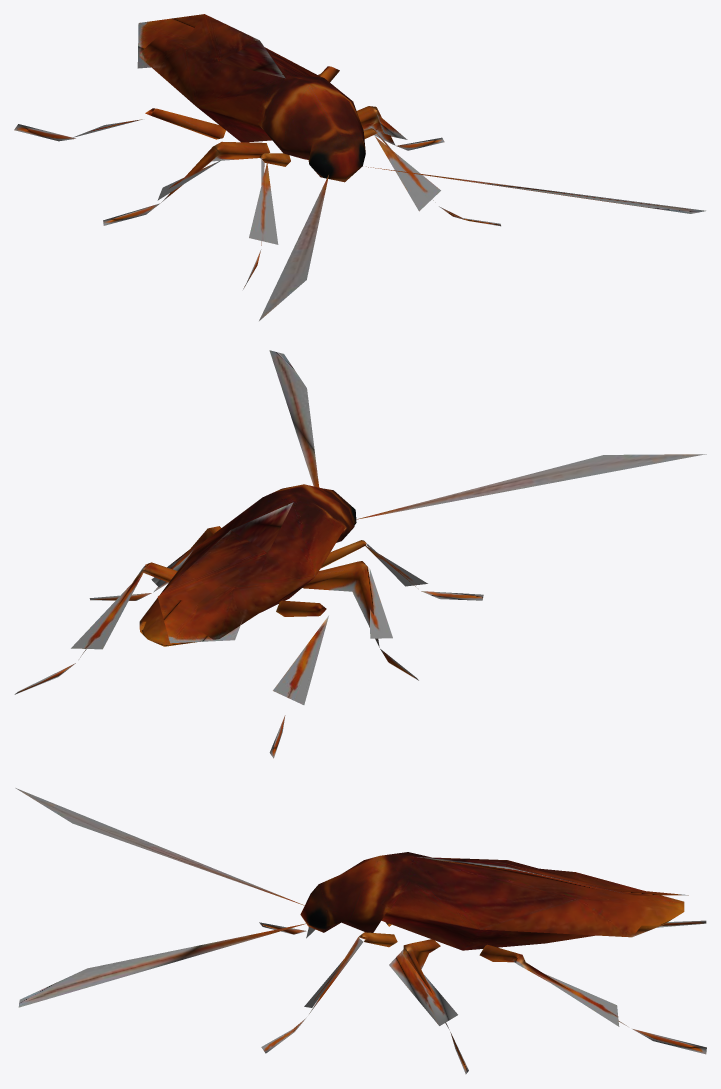
The model's file is story_roach.glb.
3 renders of one model, top to bottom at view 1: azimuth 30°, elevation 25°; view 2: azimuth 150°, elevation 25°; view 3: azimuth 270°, elevation 25°, orthographic. The views are drawn at different scales.
Visible parts, largest first — view 1: geometry_0; view 2: geometry_0; view 3: geometry_0.
Boxes of the visible parts, x1,y1,x2,y2 form: geometry_0: [14, 14, 705, 320]; geometry_0: [14, 350, 706, 758]; geometry_0: [15, 788, 706, 1074].
Size of the model in its own units: 0.0413 by 0.0116 by 0.055.
Materials: 1 (1 with a texture image).
